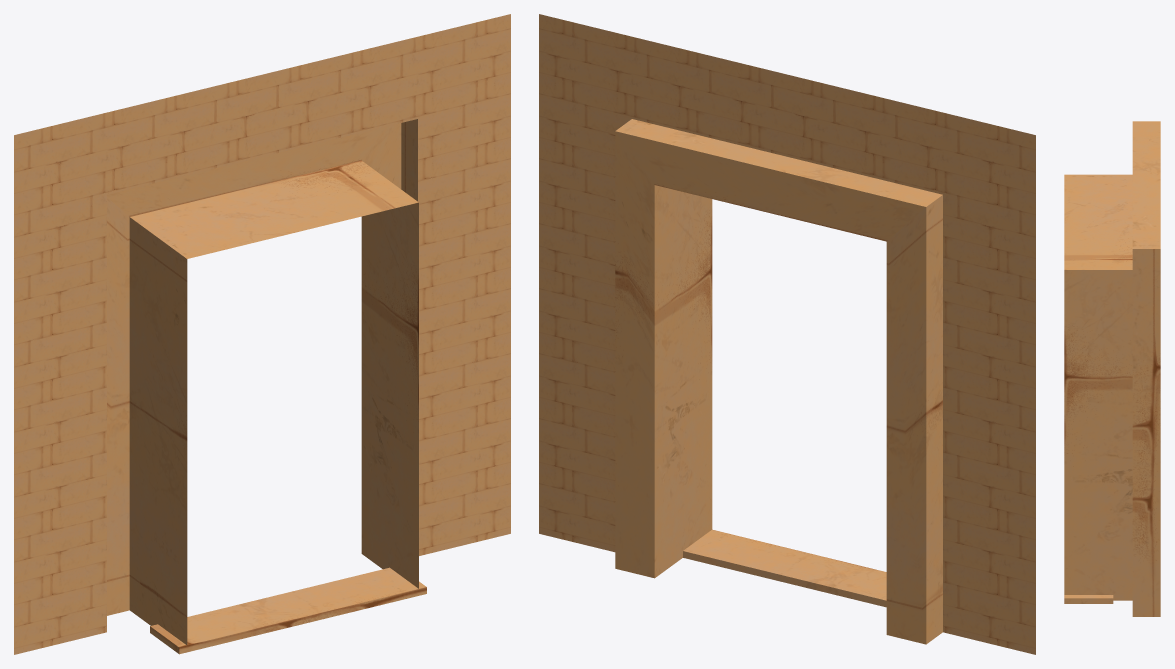
The model's file is Door_Wall_V2.fbx.
3 views of the same model, side by side, from view 1: azimuth 30°, elevation 25°; view 2: azimuth 150°, elevation 25°; view 3: azimuth 270°, elevation 25° (orthographic). The views are drawn at different scales.
Visible parts, largest first — view 1: Door_Wall_V2; view 2: Door_Wall_V2; view 3: Door_Wall_V2.
Part boxes in pixels (x1,y1,x2,y2): Door_Wall_V2: (14,14,510,654); Door_Wall_V2: (539,14,1035,654); Door_Wall_V2: (1064,121,1160,616).
Bounding box in the file's own units: 400 × 400 × 80.06.
